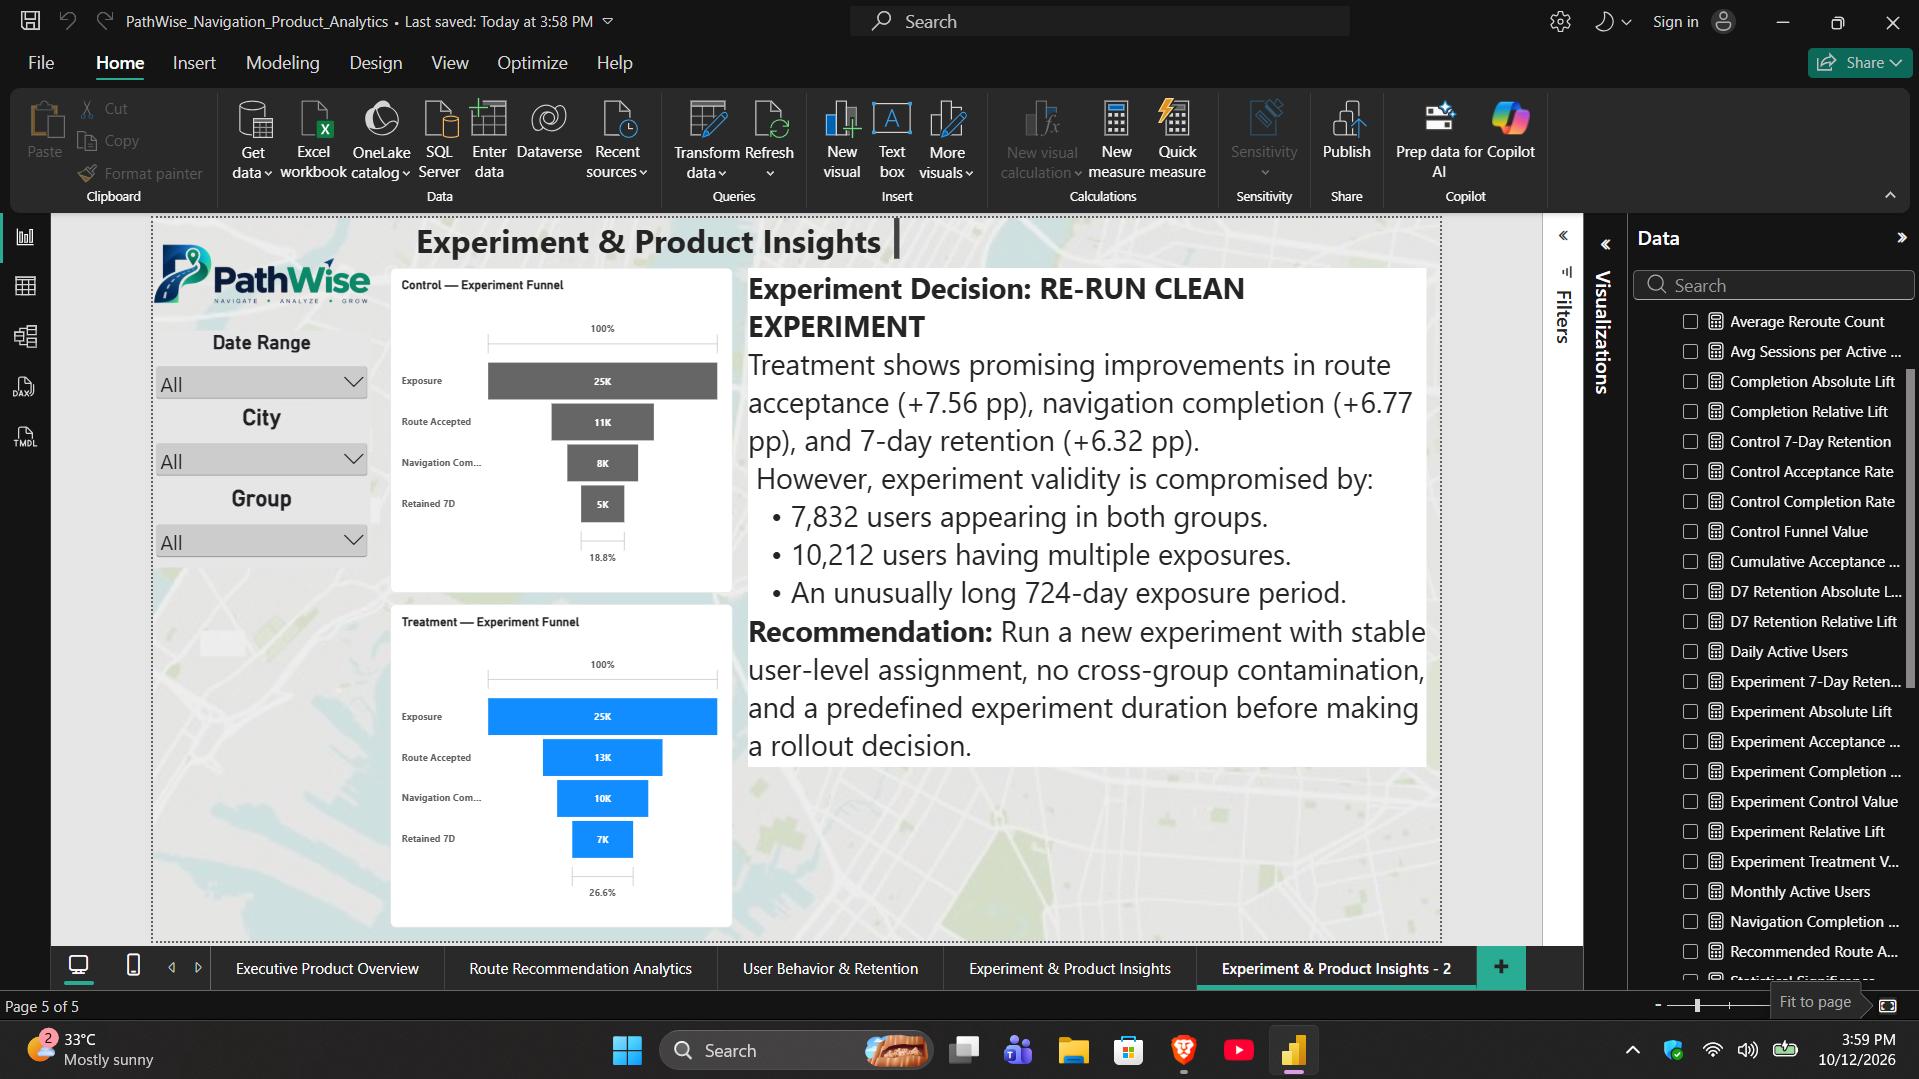

Layout of this report page (visuals, bound fields, positions):
{"tool":"powerbi","page":{"name":"Experiment & Product Insights - 2","canvas":[1920,1080],"ordinal":4},"visuals":[{"type":"textbox","box":[392.5,0,722.5,62.5],"z":0},{"type":"slicer","title":"Date Range","fields":{"Values":["Date Table.Month Year"]},"box":[0,167.5,325,110],"z":8000},{"type":"slicer","title":"City ","fields":{"Values":["pathwise navigation_sessions.city"]},"box":[0,277.5,325,122.5],"z":9000},{"type":"image","box":[0,0,325,167.5],"z":10000},{"type":"slicer","title":"Group ","fields":{"Values":["pathwise experiments.experiment_group"]},"box":[0,400,325,122.5],"z":14000},{"type":"funnel","title":"Treatment — Experiment Funnel","fields":{"Category":["Experiment Funnel Stages.Stage"],"Y":["KPI Measures.Treatment Funnel Value"]},"box":[355,577.5,510,482.5],"z":14001},{"type":"funnel","title":"Control — Experiment Funnel","fields":{"Category":["Experiment Funnel Stages.Stage"],"Y":["KPI Measures.Control Funnel Value"]},"box":[355,75,510,485],"z":14002},{"type":"textbox","box":[887.5,75,1012.5,745],"z":14003}]}

Visuals, with their boxes on the page's 1920x1080 design canvas (x1, y1, x2, y2). These are canvas units, not pixel positions in the 1919x1079 screenshot, which may show the page scaled, cropped or inside an application window:
textbox: 392,0,1115,62
"Date Range" slicer: 0,168,325,278
"City " slicer: 0,278,325,400
image: 0,0,325,168
"Group " slicer: 0,400,325,522
"Treatment — Experiment Funnel" funnel: 355,578,865,1060
"Control — Experiment Funnel" funnel: 355,75,865,560
textbox: 888,75,1900,820
